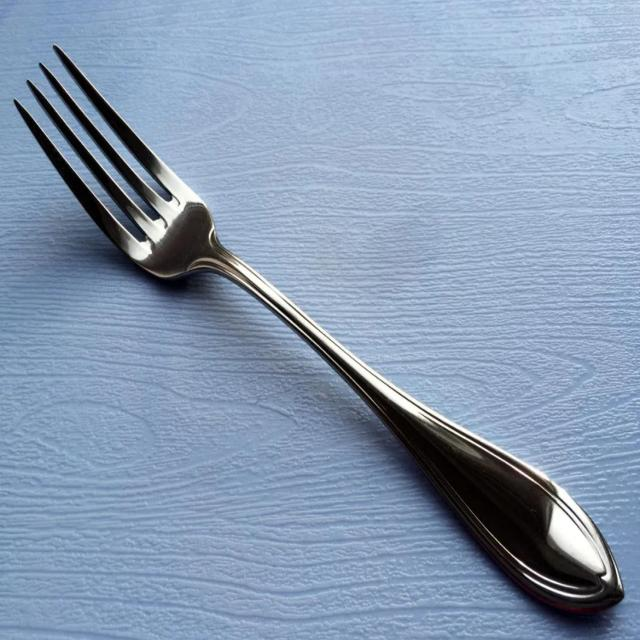fork: (10, 40, 634, 636)
